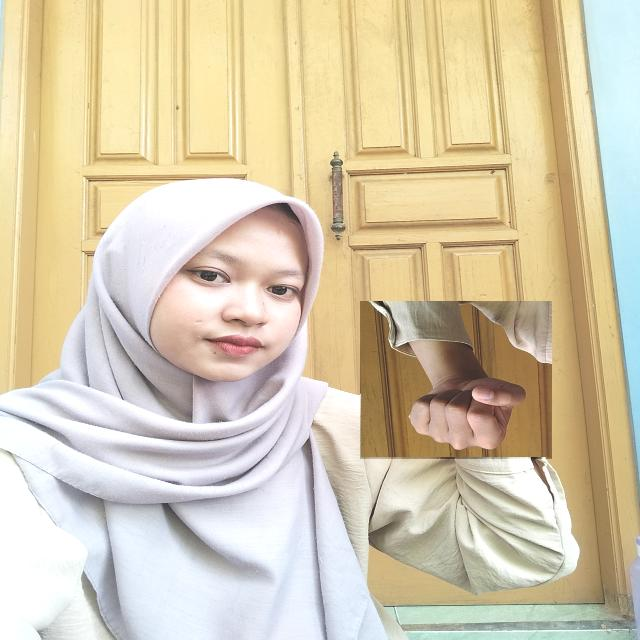baik: (360, 302, 552, 459)
